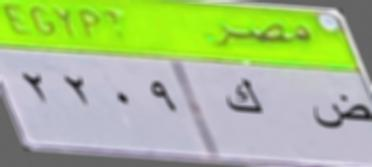0: (112, 84, 142, 114)
2: (61, 68, 96, 109), (21, 66, 53, 106)
9: (142, 75, 180, 124)
daad: (311, 87, 372, 141)
kaaf: (219, 74, 270, 118)
